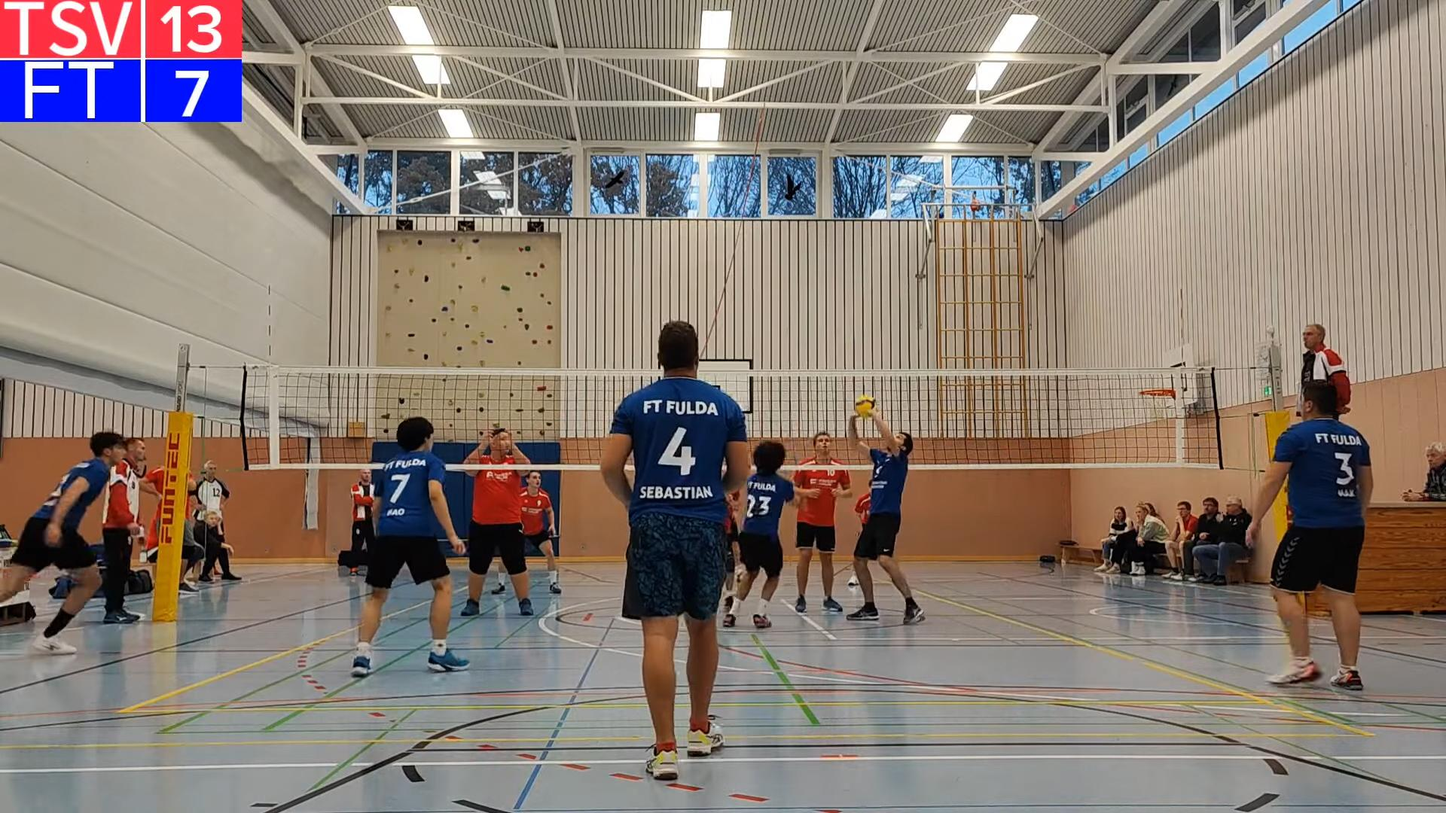Player: (600, 321, 748, 780), (1246, 382, 1373, 690), (351, 417, 468, 677), (0, 431, 125, 654), (736, 441, 796, 629), (461, 467, 532, 616), (793, 431, 850, 613), (520, 471, 561, 593), (724, 492, 743, 614), (853, 490, 871, 535)
Set: (853, 411, 909, 617)
ball: (855, 399, 881, 415)
